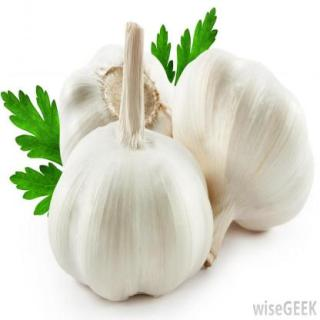Bawang Putih: (50, 121, 216, 304), (172, 48, 316, 232), (59, 42, 176, 171)
